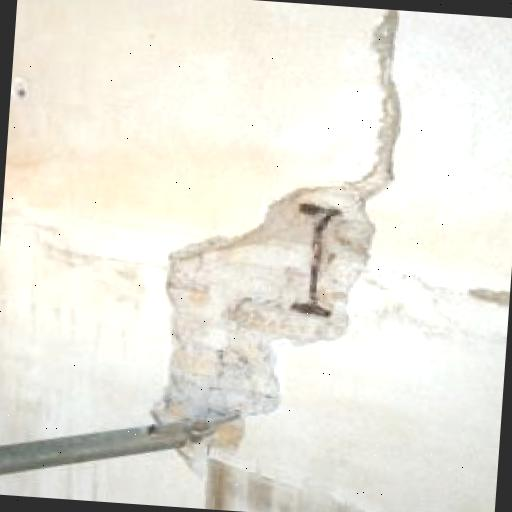spalling: (153, 8, 408, 467)
